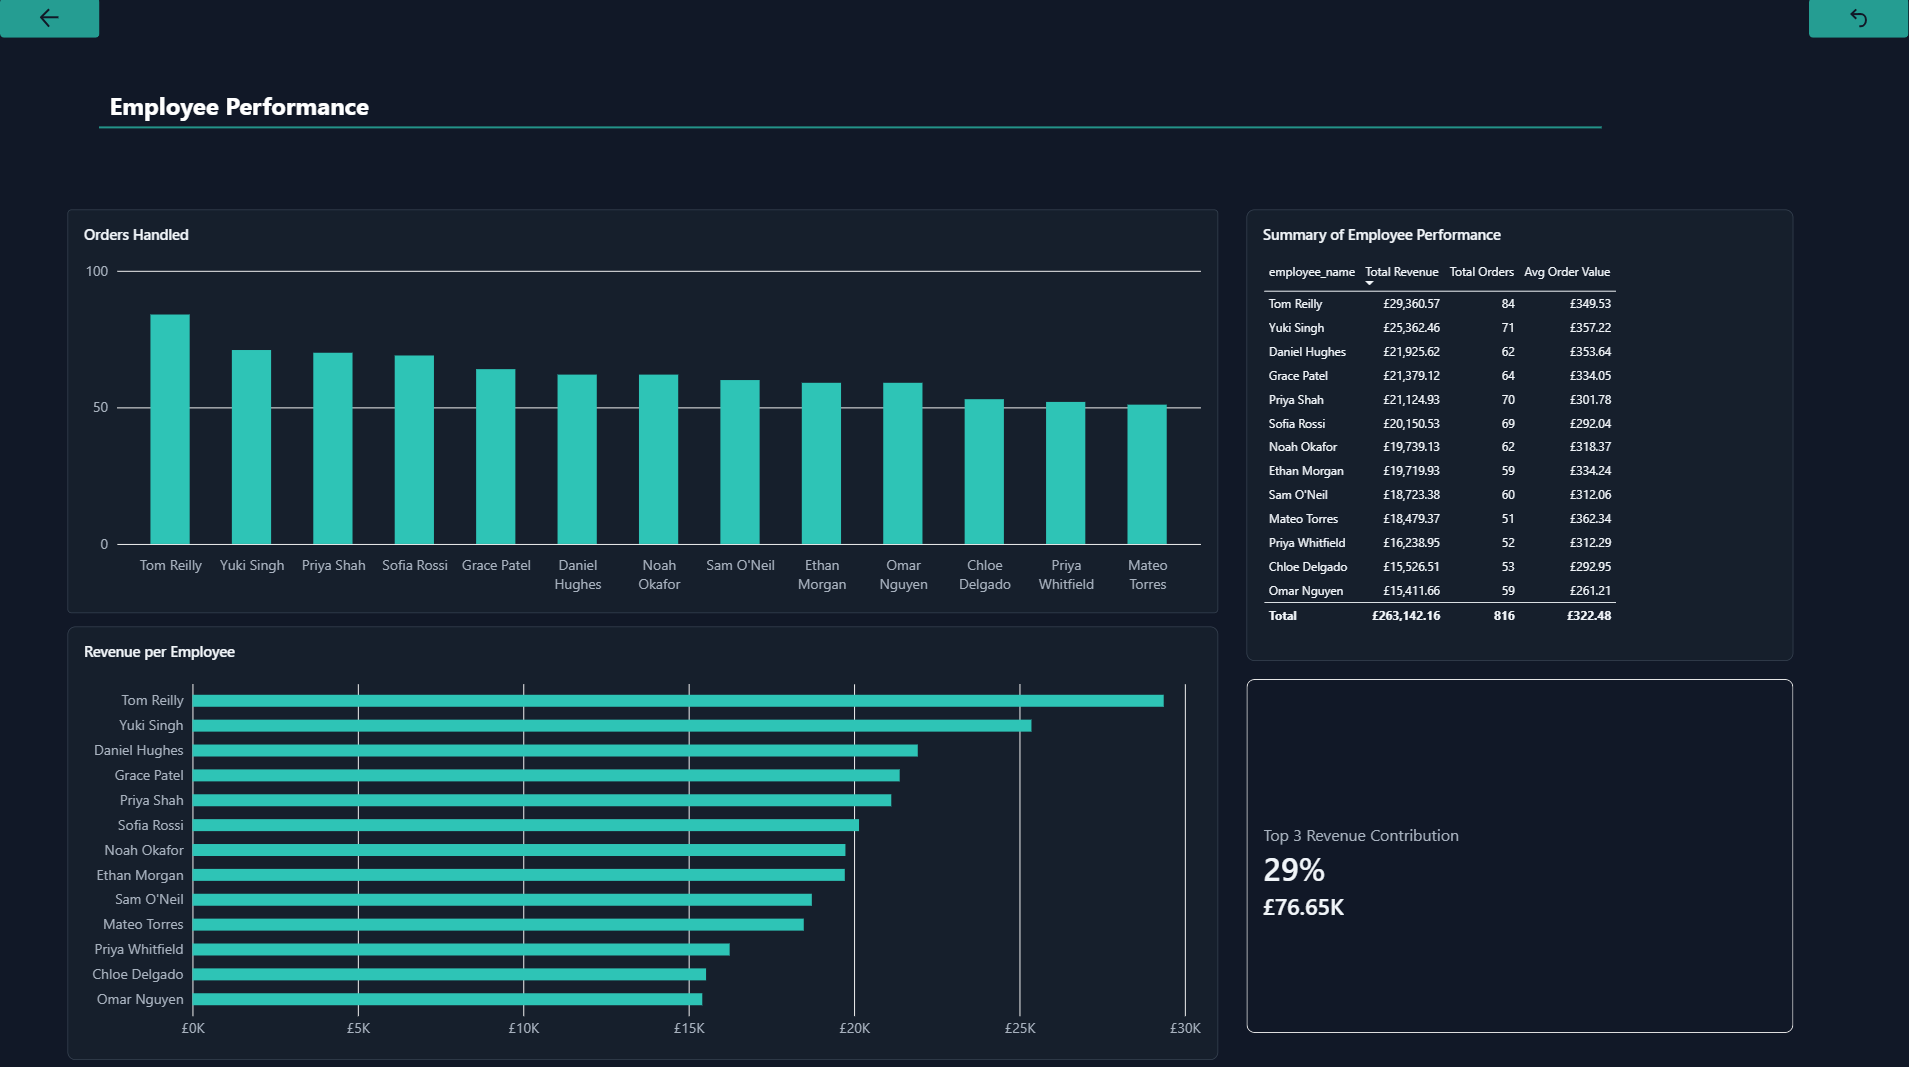

This screenshot's page, from the dashboard's own definition file:
{"tool":"powerbi","page":{"name":"Employee Performance","canvas":[1920,1080],"ordinal":3},"visuals":[{"type":"columnChart","title":"Orders Handled","fields":{"Category":["public employees.employee_name"],"Y":["public orders.Total Orders"]},"box":[68.6,212.9,1157.1,405.7],"z":0},{"type":"clusteredBarChart","title":"Revenue per Employee","fields":{"Category":["public employees.employee_name"],"Y":["public order_items.Total Revenue"]},"box":[68.6,631.4,1157.1,435.7],"z":1000},{"type":"tableEx","title":"Summary of Employee Performance","fields":{"Values":["public employees.employee_name","public order_items.Total Revenue","public orders.Total Orders","public orders.Avg Order Value"]},"box":[1253.2,212.5,550,454],"z":2000},{"type":"textbox","box":[110,92,550,44],"z":3000},{"type":"actionButton","box":[1820,0,100,40],"z":4000},{"type":"shape","box":[100,110,1511.4,40],"z":5000},{"type":"actionButton","box":[0,0,100,40],"z":6000},{"type":"cardVisual","fields":{"Data":["public employees.Top 3 Revenue Contribution"]},"box":[1253.3,685,550,356.7],"z":7000},{"type":"cardVisual","fields":{"Data":["public employees.Top 3 Employee Revenue"]},"box":[1253.3,836.7,192,150],"z":8000}]}

Visuals, with their boxes on the page's 1920x1080 design canvas (x1, y1, x2, y2). These are canvas units, not pixel positions in the 1909x1067 screenshot, which may show the page scaled, cropped or inside an application window:
"Orders Handled" columnChart: [69,213,1226,619]
"Revenue per Employee" clusteredBarChart: [69,631,1226,1067]
"Summary of Employee Performance" tableEx: [1253,212,1803,666]
textbox: [110,92,660,136]
actionButton: [1820,0,1920,40]
shape: [100,110,1611,150]
actionButton: [0,0,100,40]
cardVisual - public employees.Top 3 Revenue Contribution: [1253,685,1803,1042]
cardVisual - public employees.Top 3 Employee Revenue: [1253,837,1445,987]
